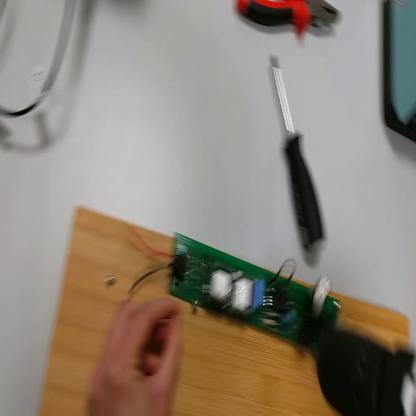electric screwdriver: (310, 322, 416, 414)
hand: (90, 296, 184, 413)
high voltage board: (133, 225, 349, 350)
pliers: (236, 1, 342, 38)
screwdriver-: (270, 53, 331, 262)
welder station: (382, 1, 416, 147)
working area: (49, 204, 416, 416)
